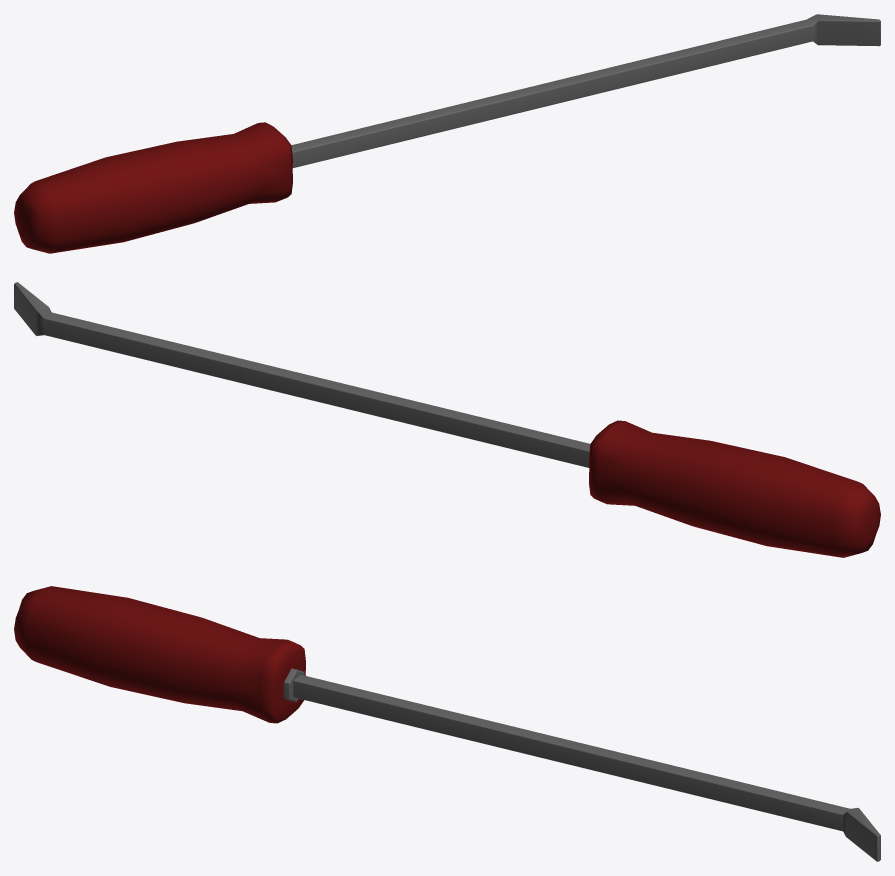
Rendered from SeanElstonPrybarFinal.fbx.
The picture shows the model from 3 angles, top to bottom: view 1: azimuth 30°, elevation 25°; view 2: azimuth 150°, elevation 25°; view 3: azimuth 330°, elevation 25°; orthographic projection. The views are drawn at different scales.
Visible parts, largest first — view 1: Prybar; view 2: Prybar; view 3: Prybar.
Part boxes in pixels (<box>): Prybar: <box>14,14,880,253</box>; Prybar: <box>14,282,880,557</box>; Prybar: <box>14,586,880,861</box>.
Bounding box in the file's own units: 53.34 × 4.59 × 4.66.
